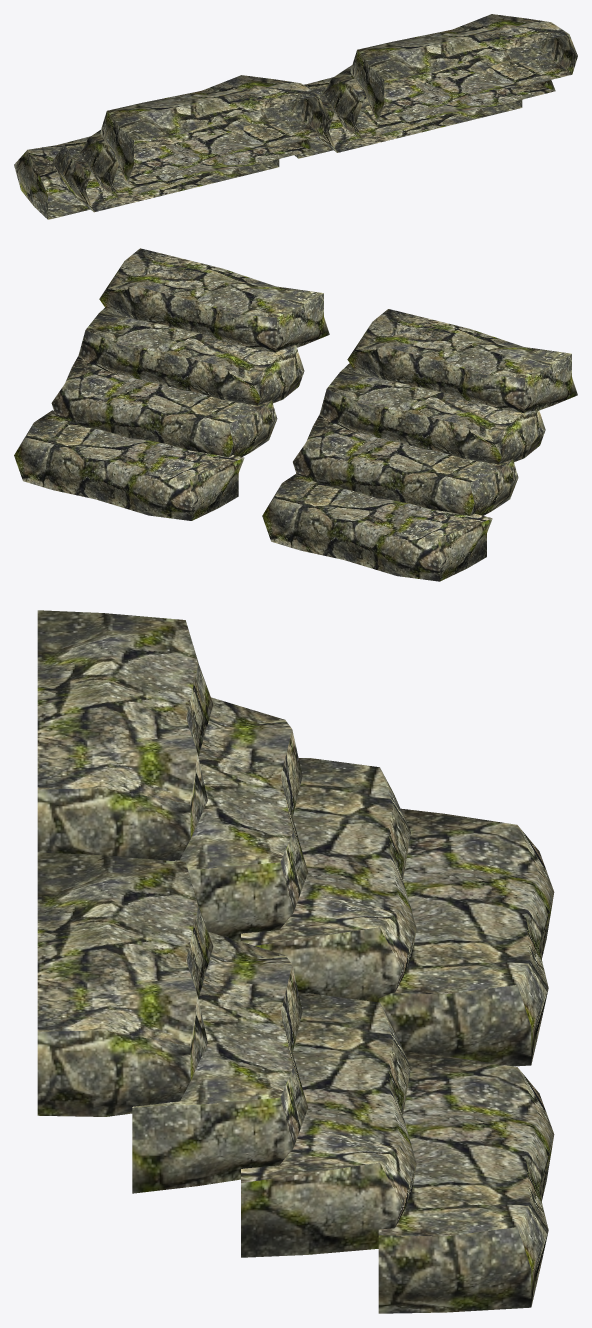
Rendered from Stairs.FBX.
3 renders of one model, top to bottom at view 1: azimuth 30°, elevation 25°; view 2: azimuth 150°, elevation 25°; view 3: azimuth 270°, elevation 25°, orthographic. The views are drawn at different scales.
Parts seen in each view (by area): view 1: Stairs; view 2: Stairs; view 3: Stairs.
Boxes of the visible parts, box(x1,y1,x2,y2) form: Stairs: box(14, 14, 577, 219); Stairs: box(14, 248, 577, 581); Stairs: box(37, 610, 554, 1313).
Size of the model in its own units: 3.72 by 1.15 by 1.86.
